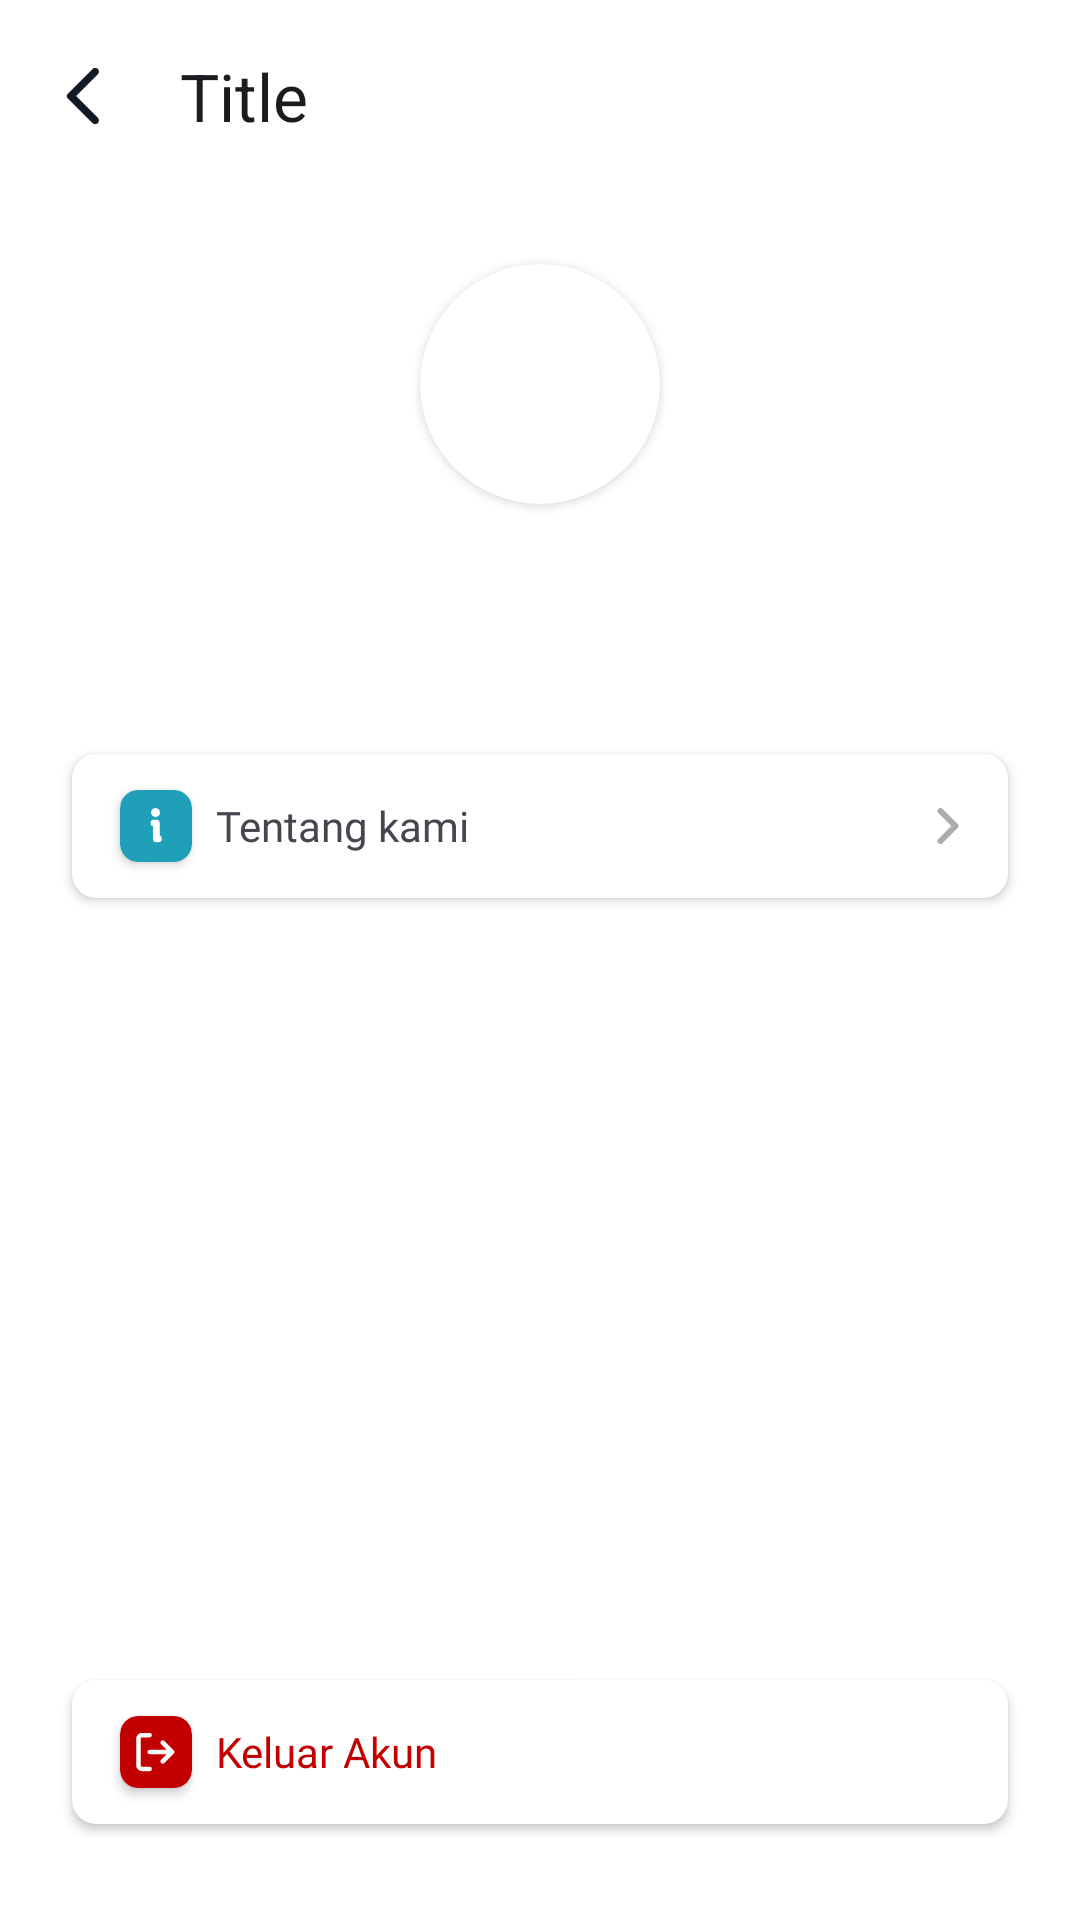

Where icons sit on this 1080w x 1920h app screen, as box(x1, y1, x2, y2):
arrow kanan: box(937, 808, 959, 844)
